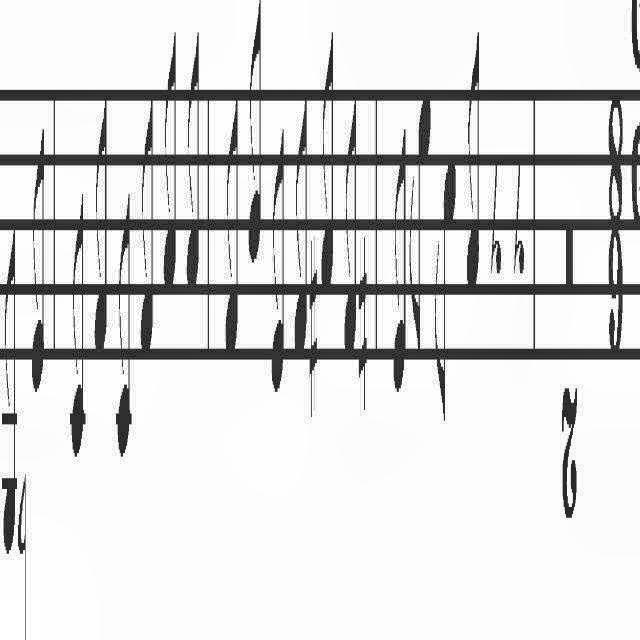Bemol: (18, 471, 29, 640)
Diez: (308, 234, 322, 446), (357, 235, 368, 432)
Eighth-note: (433, 150, 459, 426), (408, 82, 432, 374), (388, 106, 408, 428), (464, 0, 484, 320), (0, 205, 16, 579), (68, 175, 86, 493), (223, 60, 240, 376), (28, 130, 48, 392), (271, 121, 289, 412), (320, 35, 338, 318), (342, 82, 358, 394), (116, 178, 132, 478), (186, 23, 202, 307), (292, 98, 308, 362), (163, 22, 177, 314), (93, 109, 109, 363), (248, 0, 262, 284), (142, 106, 154, 374)
Eighth-rest: (512, 144, 528, 312), (488, 154, 506, 300)
